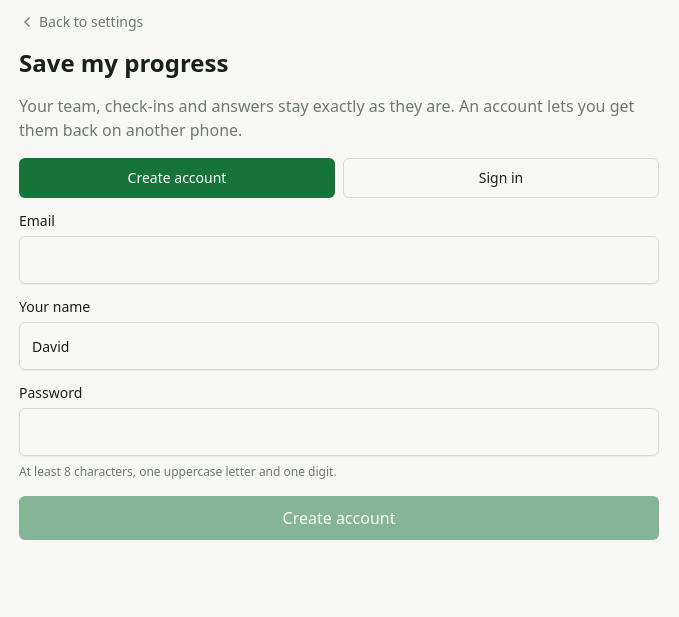
AccountScreen › explains a taken email when creating
This screenshot has width=679, height=617.
Type "taken@example.com" into the field with test id "account-email" at coordinates (339, 260), box [19,236,659,284]
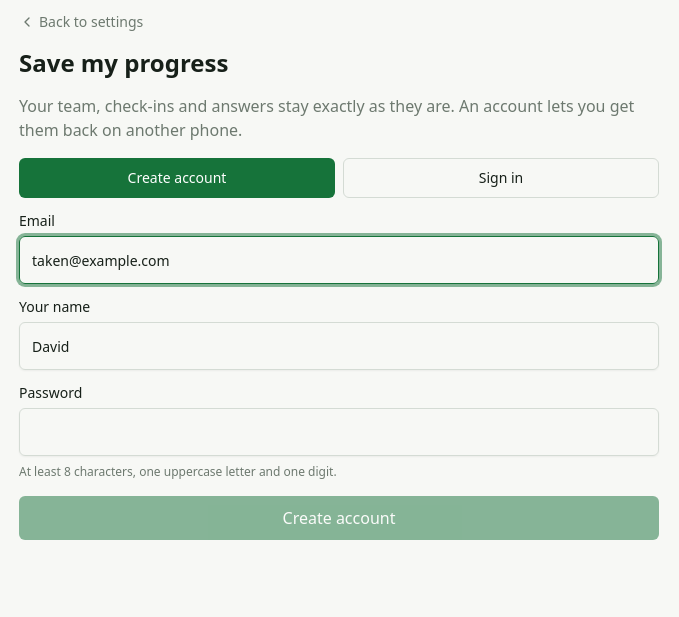
Type "Secret123" into the password field with test id "account-password" at coordinates (339, 432), box [19,408,659,456]
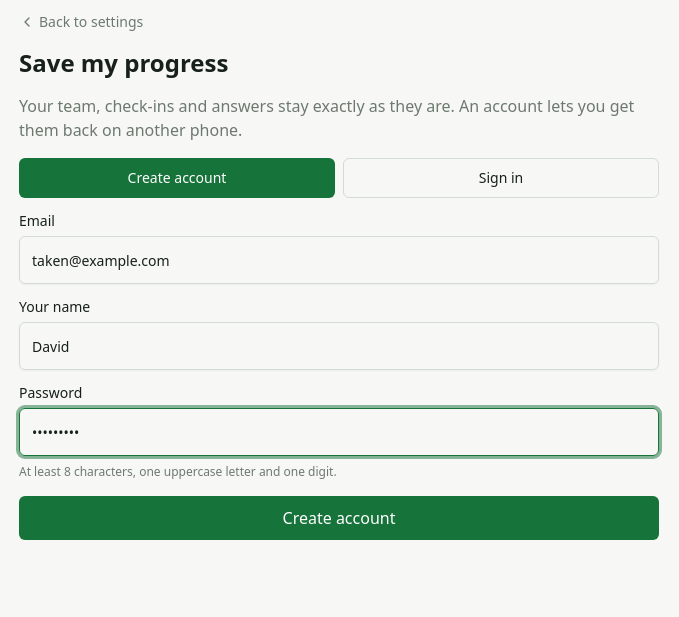
Click the button with test id "account-submit" at coordinates (339, 518), box [19,496,659,540]
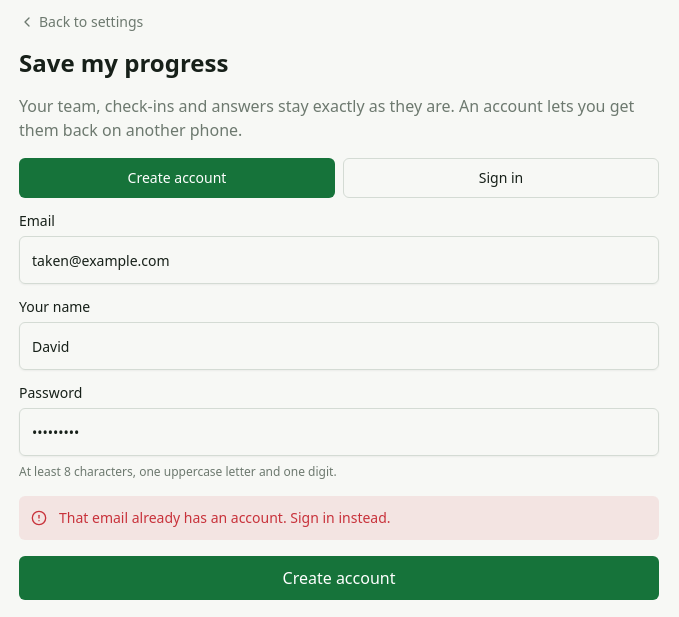
Now the message reads "That email already has an account. Sign in instead.", box [59,508,390,527]
